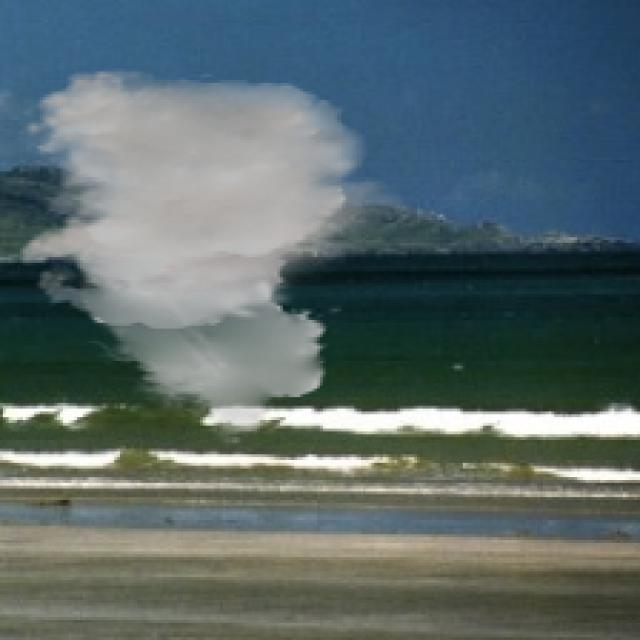smoke: (17, 68, 412, 446)
